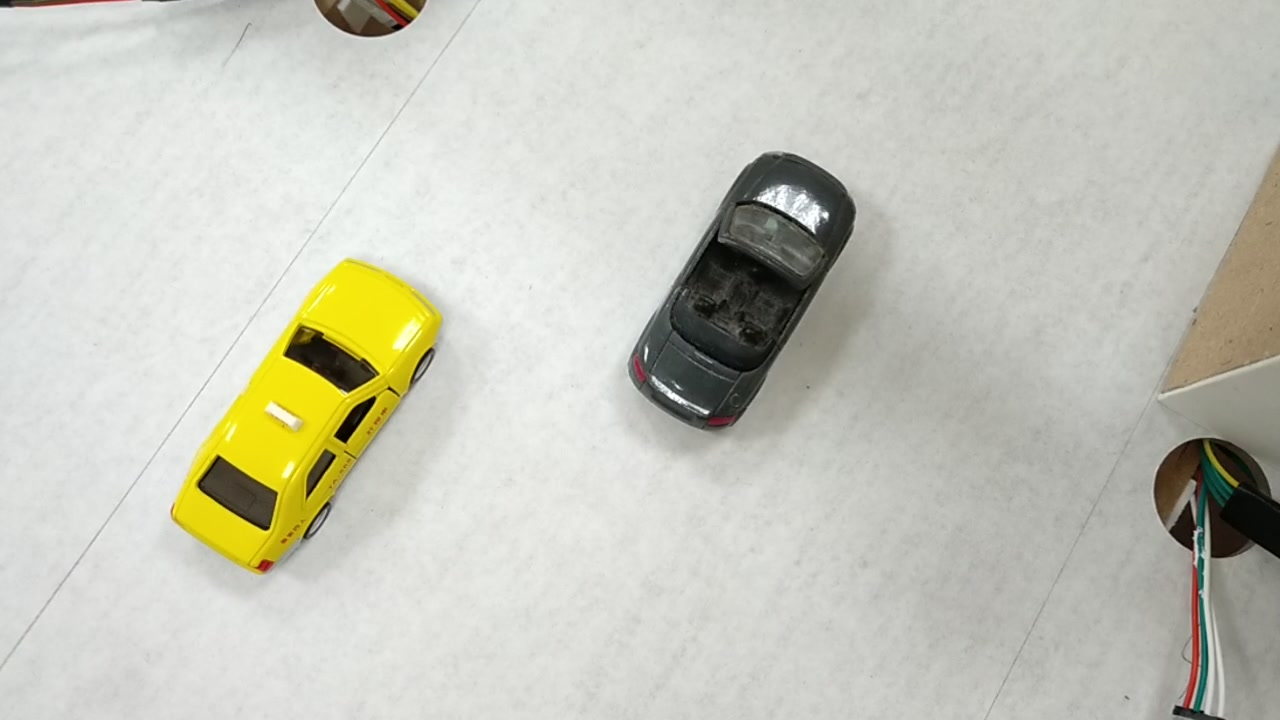car: (171, 259, 433, 572), (628, 163, 859, 428)
